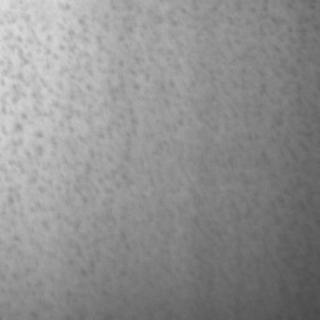pitted_surface: (0, 0, 316, 314)
